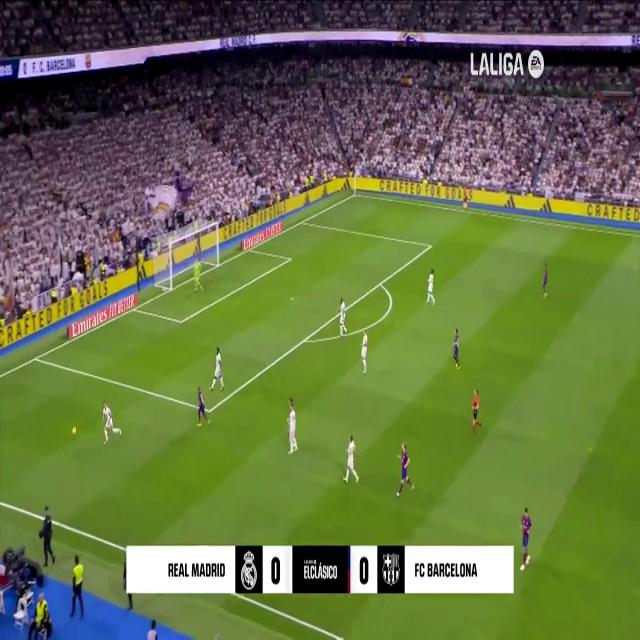bigarea_bottom_inner: (205, 402, 212, 418)
bigarea_bottom_outter: (31, 350, 41, 366)
bigarea_top_inner: (427, 240, 432, 251)
bigarea_top_outter: (300, 216, 304, 226)
bottom_arc_area_intersection: (301, 332, 309, 348)
smallarea_bottom_inner: (177, 312, 185, 330)
smallarea_bottom_outter: (130, 302, 138, 315)
smallarea_top_inner: (287, 254, 291, 262)
top_arc_area_intersection: (376, 276, 384, 290)
